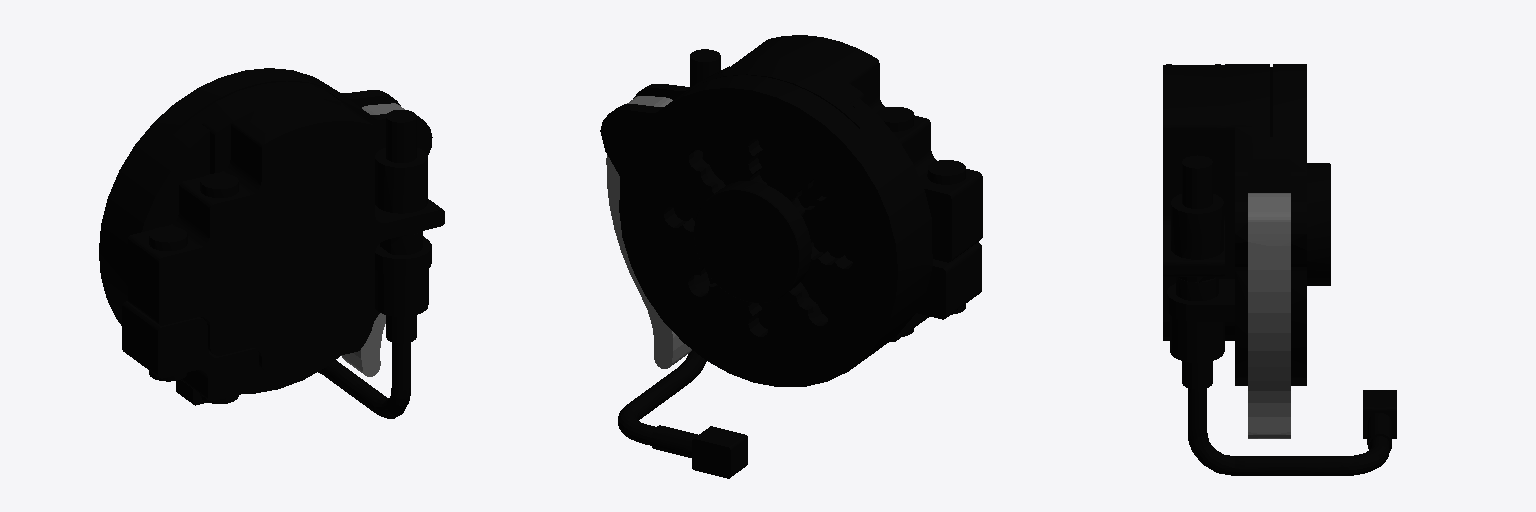
File: millibar_toolchanger.obj
3 renders of one model, left to right at view 1: azimuth 30°, elevation 25°; view 2: azimuth 150°, elevation 25°; view 3: azimuth 270°, elevation 25°, orthographic.
Visible parts, largest first — view 1: Mesh_001_mesh-ab1bfebd-b5c1-4b7f-a8c4-d74b856f8ca1.001; view 2: Mesh_001_mesh-ab1bfebd-b5c1-4b7f-a8c4-d74b856f8ca1.001; view 3: Mesh_001_mesh-ab1bfebd-b5c1-4b7f-a8c4-d74b856f8ca1.001.
Part boxes in pixels (x1,y1,x2,y2): Mesh_001_mesh-ab1bfebd-b5c1-4b7f-a8c4-d74b856f8ca1.001: (99, 68, 444, 418); Mesh_001_mesh-ab1bfebd-b5c1-4b7f-a8c4-d74b856f8ca1.001: (600, 35, 982, 478); Mesh_001_mesh-ab1bfebd-b5c1-4b7f-a8c4-d74b856f8ca1.001: (1163, 64, 1396, 475).
Bounding box in the file's own units: 0.0923 × 0.099 × 0.06.